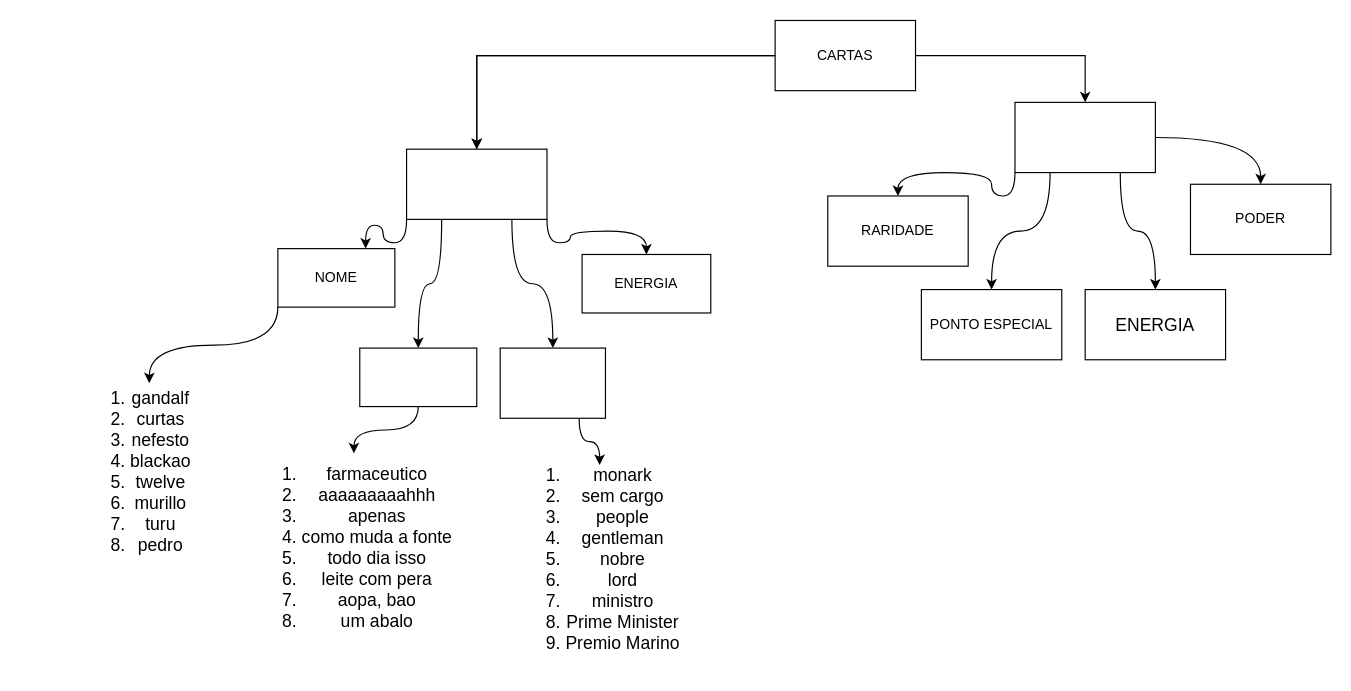
The diagram is 1351 pixels wide and 691 high, and some of its shapes have lost their labels. The shapes that lost their labels are listed below. From the top down, each one's centre as x and y in pixels, then its label:
At point 1084,137: "ESPECIAIS".
At point 476,183: "NORMAIS".
At point 418,377: "VARIANTE".
At point 552,382: "CARGO".
